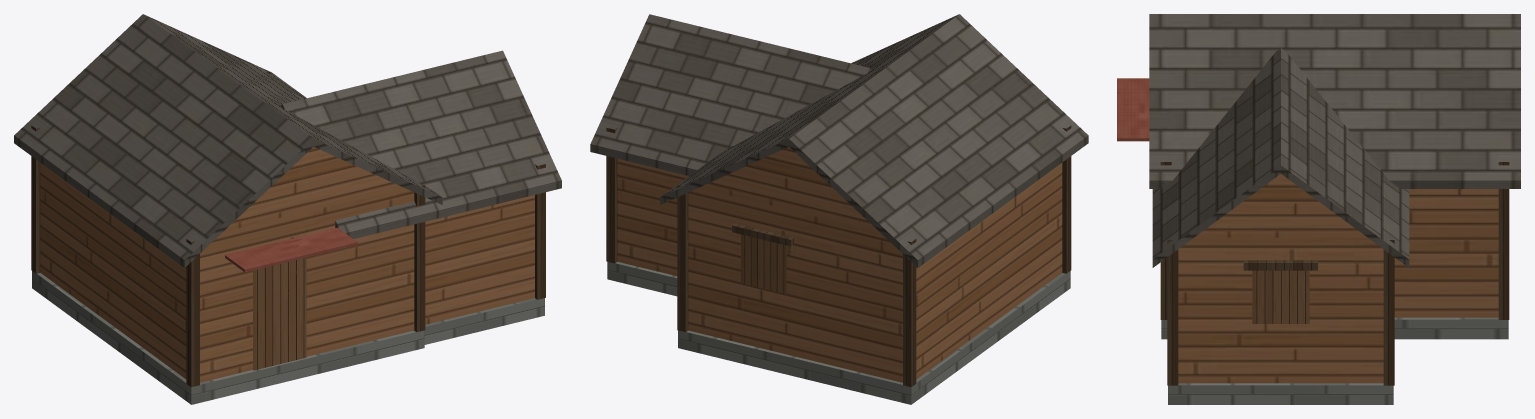
The model's file is ae_sand_wood_medium_l_lod1.glb.
3 views of the same model, side by side, from view 1: azimuth 30°, elevation 25°; view 2: azimuth 150°, elevation 25°; view 3: azimuth 270°, elevation 25° (orthographic). The views are drawn at different scales.
Visible parts, largest first — view 1: ae_sand_wood_medium_l_lod1; view 2: ae_sand_wood_medium_l_lod1; view 3: ae_sand_wood_medium_l_lod1.
Boxes of the visible parts, x1,y1,x2,y2 form: ae_sand_wood_medium_l_lod1: (14,14,561,404); ae_sand_wood_medium_l_lod1: (590,14,1088,404); ae_sand_wood_medium_l_lod1: (1117,14,1520,404).
Size of the model in its own units: 7.05 by 4.3 by 5.98.
Materials: 1 (1 with a texture image).
